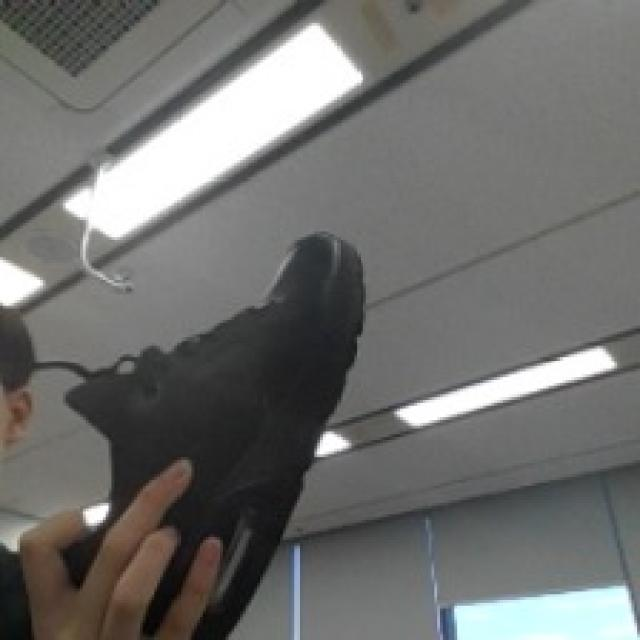shoe: (67, 234, 372, 640)
